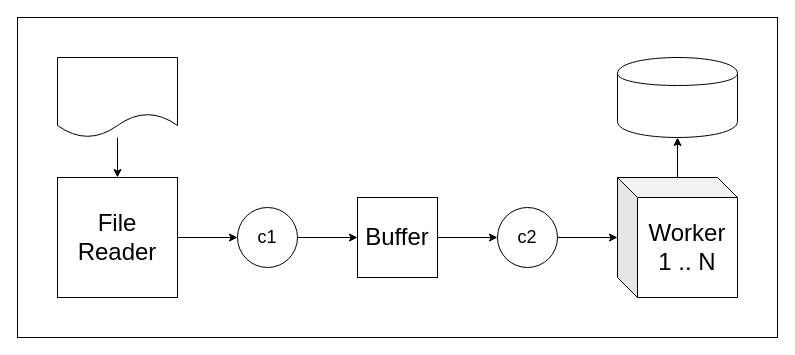
Image size: 795x355. Some labels were removed from this diagram. Here are the shapes that lost their labels. From the top down, the centre of each, then its label:
point (117, 97): JSON file
point (677, 97): BigQuery
